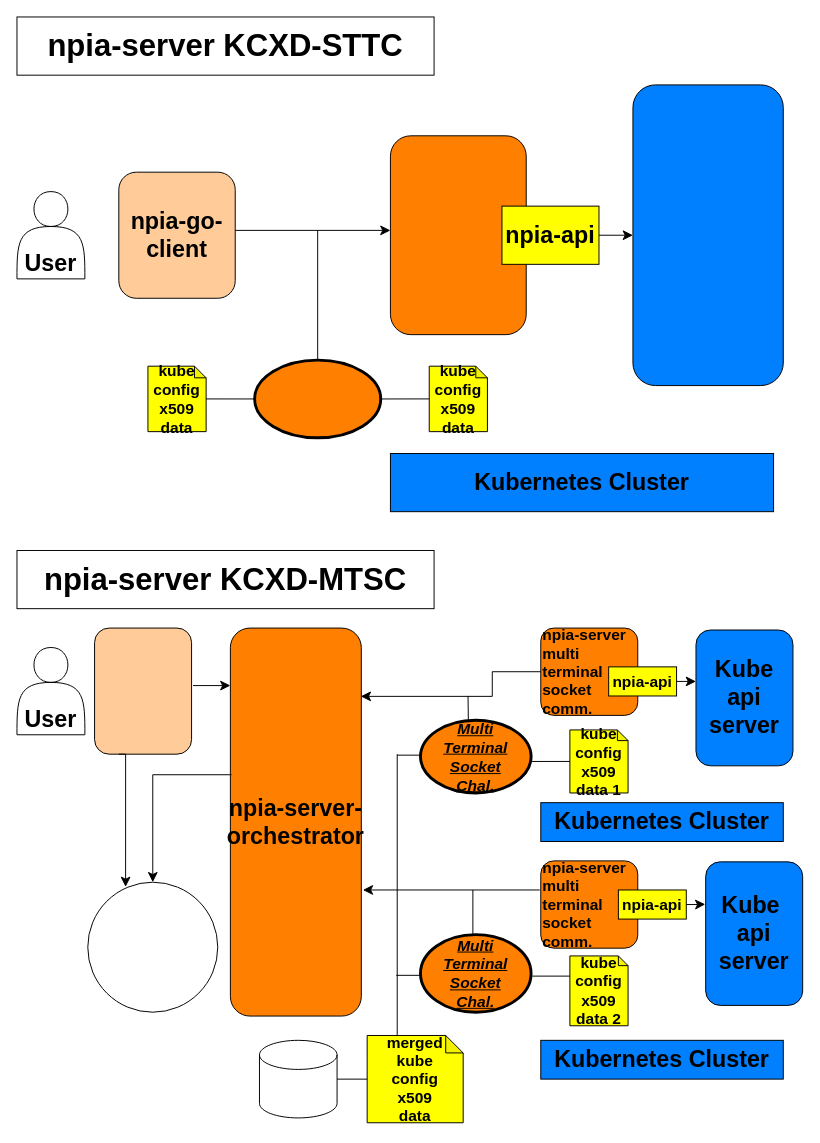
This 820x1143 diagram has some shape labels left out. The shapes that lost their labels are listed below. From the top down, each one's centre as x and y in pixels, then its label:
At (457,235): "npia-server single terminal transfer comm.".
At (707,235): "Kubernetes api server".
At (317,398): "Single Terminal Transfer Chal.".
At (143,690): "npia-orch.-client".
At (152,946): "OAuth Authority".
At (298,1078): "npia-server db".
